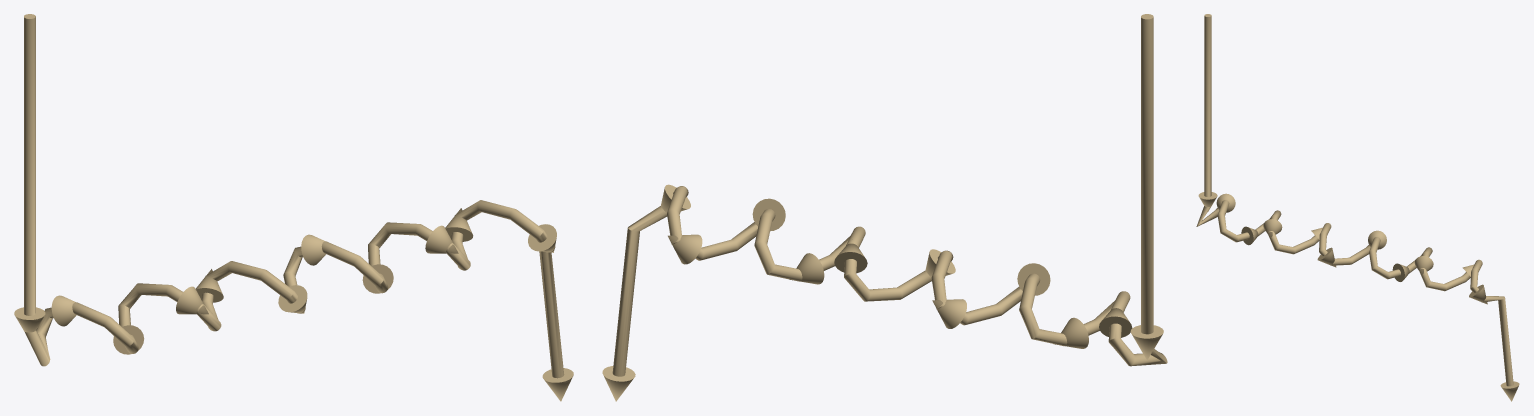
File: screw_feeder_flow.glb
3 views of the same model, side by side, from view 1: azimuth 30°, elevation 25°; view 2: azimuth 150°, elevation 25°; view 3: azimuth 330°, elevation 25° (orthographic). The views are drawn at different scales.
Visible parts, largest first — view 1: material; view 2: material; view 3: material.
Boxes of the visible parts, left/top/right/bottom form: material: left=14, top=14, right=573, bottom=401; material: left=602, top=14, right=1167, bottom=401; material: left=1196, top=14, right=1519, bottom=401.
Bounding box in the file's own units: 1.03 × 0.9099 × 0.1753.
